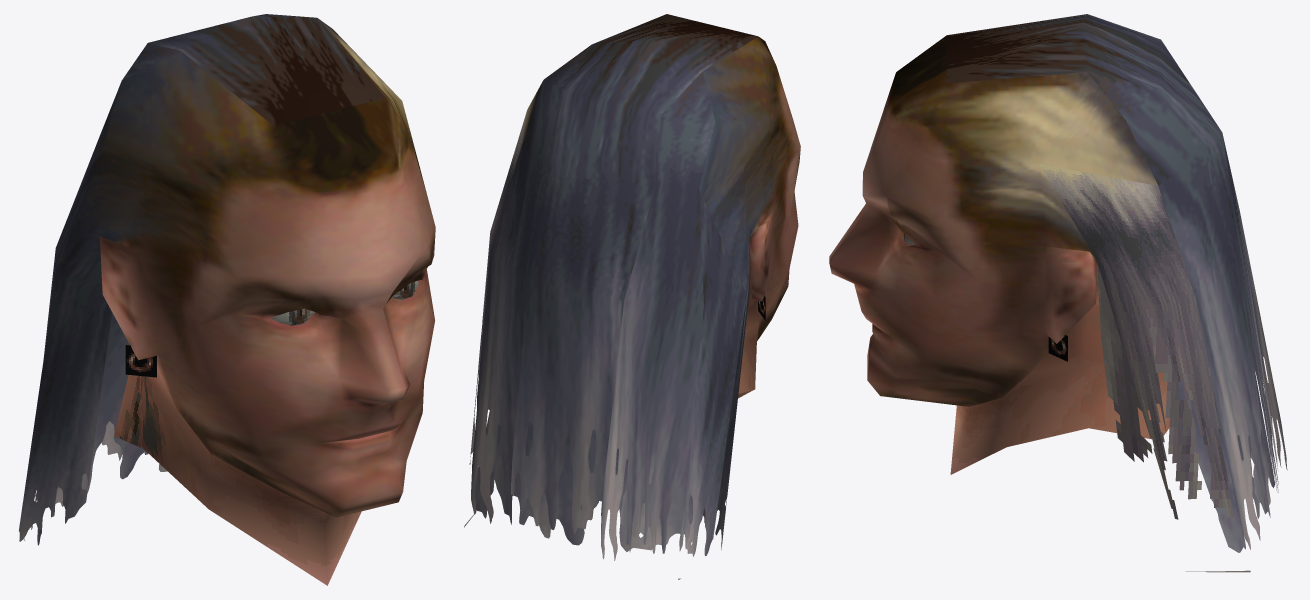
File: Jeff_H.obj
3 views of the same model, side by side, from view 1: azimuth 30°, elevation 25°; view 2: azimuth 150°, elevation 25°; view 3: azimuth 270°, elevation 25° (orthographic). The views are drawn at different scales.
Visible parts, largest first — view 1: Jeff_H.001; view 2: Jeff_H.001; view 3: Jeff_H.001.
Part boxes in pixels (<box>): Jeff_H.001: <box>19,14,435,585</box>; Jeff_H.001: <box>464,14,800,579</box>; Jeff_H.001: <box>829,14,1287,572</box>.
Size of the model in its own units: 2.25 by 3.87 by 3.26.
9 materials, 9 textured.
